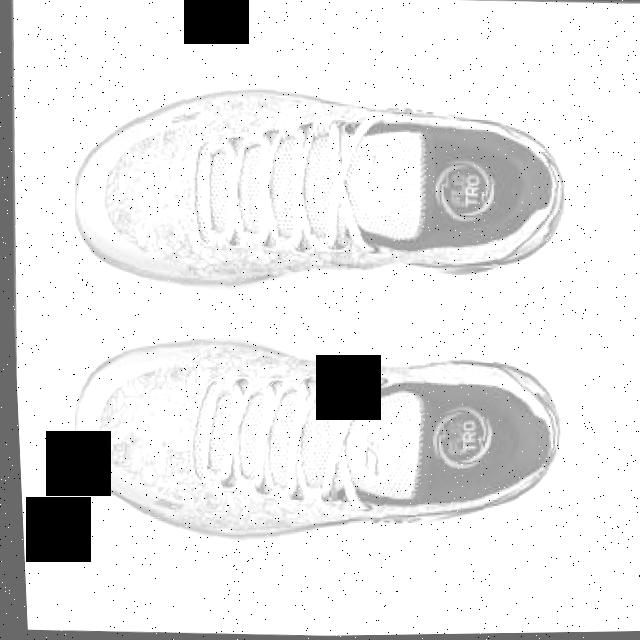shoe: (62, 318, 582, 569), (65, 67, 584, 306)
